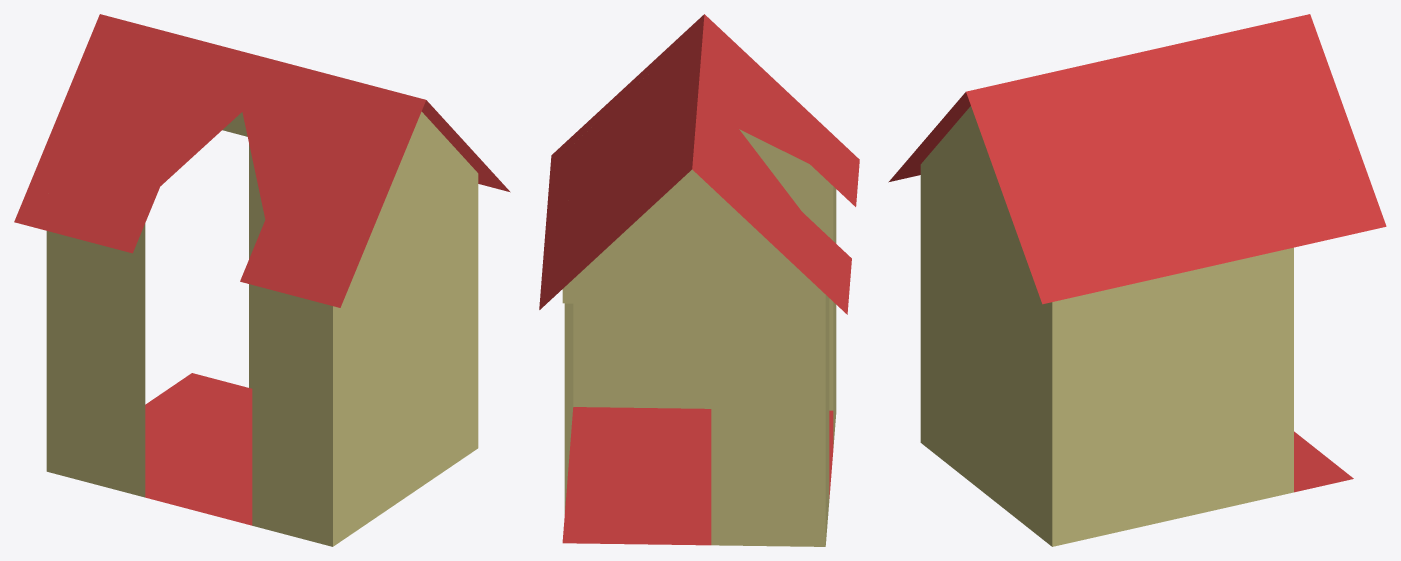
3 views of the same model, side by side, from view 1: azimuth 30°, elevation 25°; view 2: azimuth 150°, elevation 25°; view 3: azimuth 270°, elevation 25° (orthographic). The views are drawn at different scales.
Bounding box in the file's own units: 14.77 × 15.58 × 14.1.
